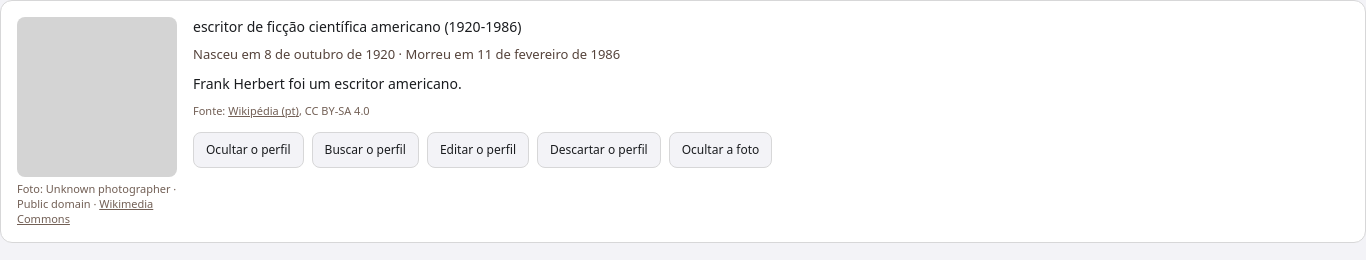
PersonProfile: what Wikidata and Wikipedia say about an author (DEC-146) › says when the choice could not be saved
Click the button "Ocultar o perfil": (248, 150) x1=193 y1=132 x2=304 y2=168
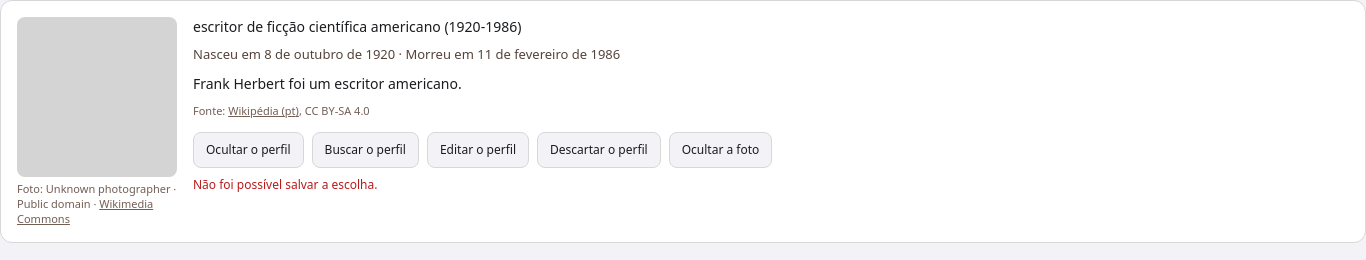
Now the message "Não foi possível salvar a escolha." is shown, box x1=193 y1=176 x2=378 y2=193
